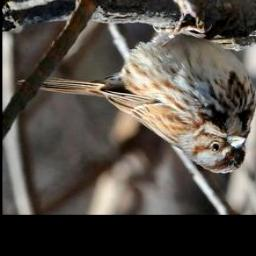Sparrow: (15, 12, 256, 176)
